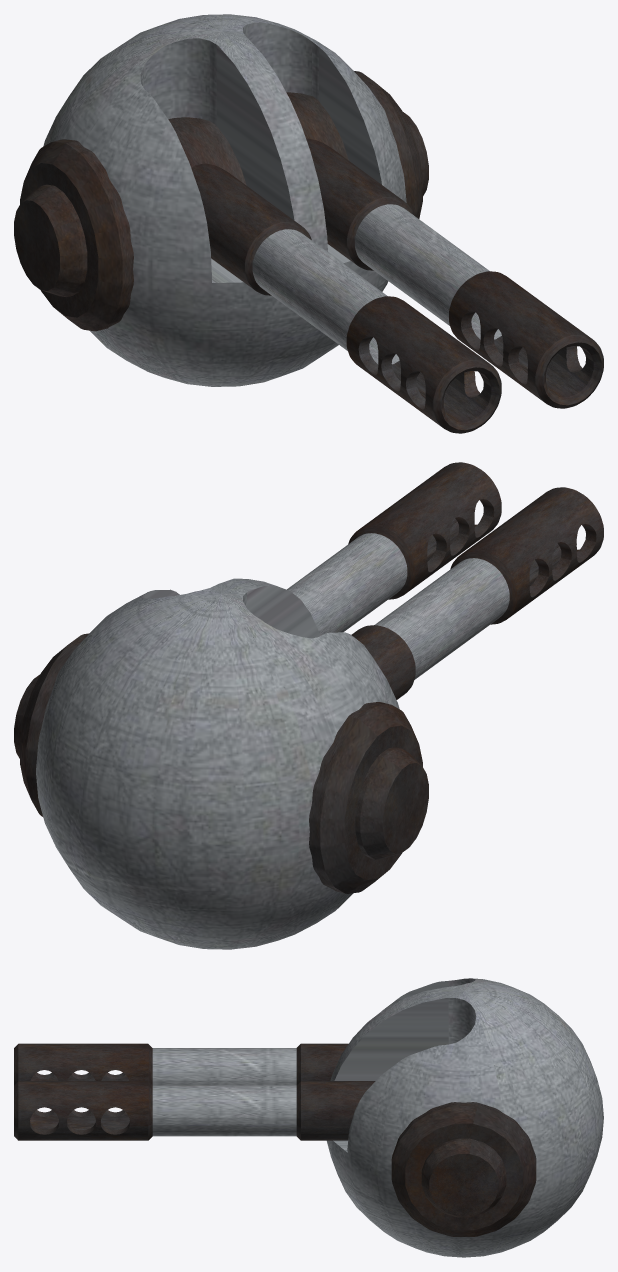
The model's file is Turret.fbx.
3 views of the same model, one above another, from view 1: azimuth 30°, elevation 25°; view 2: azimuth 150°, elevation 25°; view 3: azimuth 270°, elevation 25° (orthographic). The views are drawn at different scales.
Visible parts, largest first — view 1: group2; view 2: group2; view 3: group2.
Boxes of the visible parts, x1=… form: group2: x1=14, y1=14, x2=603, y2=433; group2: x1=14, y1=462, x2=603, y2=949; group2: x1=14, y1=978, x2=603, y2=1257.
Size of the model in its own units: 4.33 by 3.79 by 8.
Materials: 2 (2 with a texture image).
